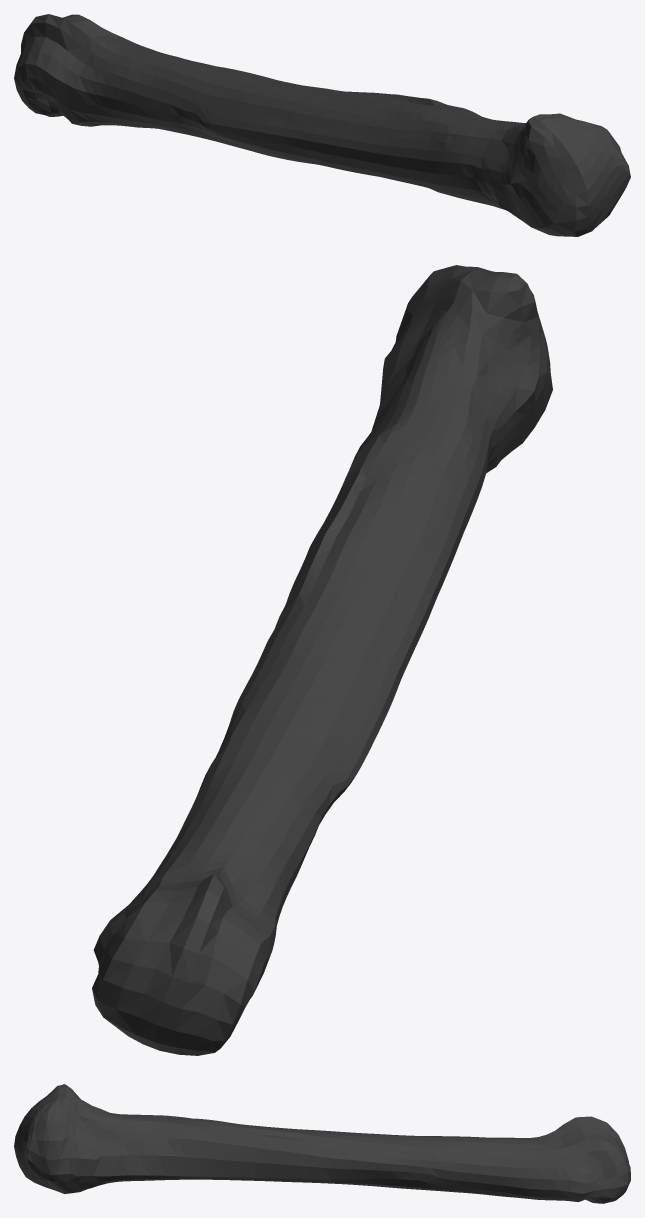
The model's file is Metacarpal_IV.glb.
The picture shows the model from 3 angles, top to bottom: view 1: azimuth 30°, elevation 25°; view 2: azimuth 150°, elevation 25°; view 3: azimuth 270°, elevation 25°; orthographic projection. The views are drawn at different scales.
Visible parts, largest first — view 1: Metacarpal_IV; view 2: Metacarpal_IV; view 3: Metacarpal_IV.
Boxes of the visible parts, x1=… form: Metacarpal_IV: x1=14, y1=14, x2=630, y2=236; Metacarpal_IV: x1=92, y1=265, x2=552, y2=1055; Metacarpal_IV: x1=14, y1=1084, x2=630, y2=1203.
Size of the model in its own units: 0.3841 by 0.3095 by 1.04.
Materials: 1 (1 with a texture image).
